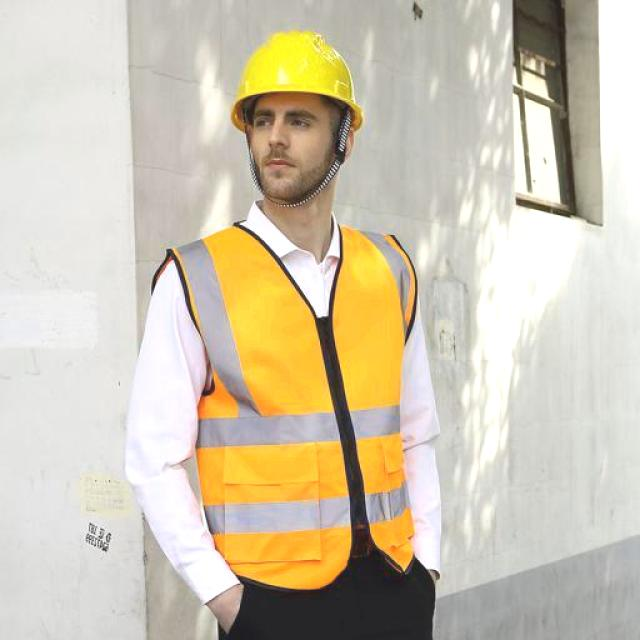face_nomask: (248, 101, 330, 188)
head_helmet: (221, 24, 371, 114)
person: (112, 19, 450, 640)
vest: (142, 222, 422, 588)
